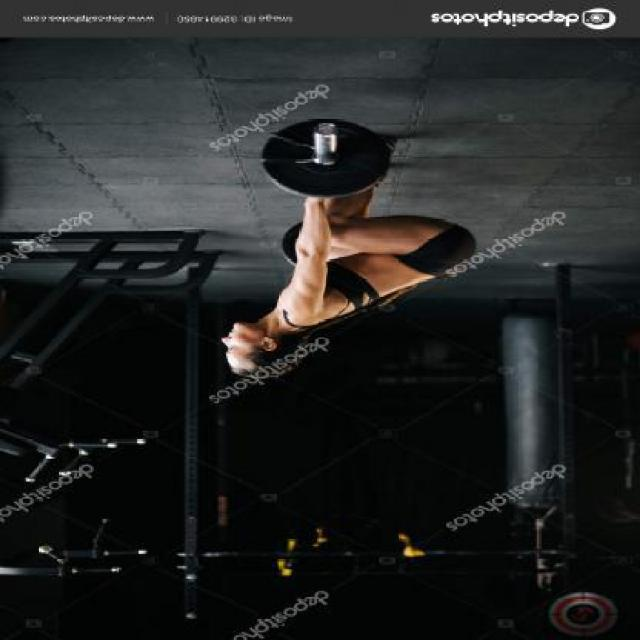Barbell: (304, 112, 348, 143)
